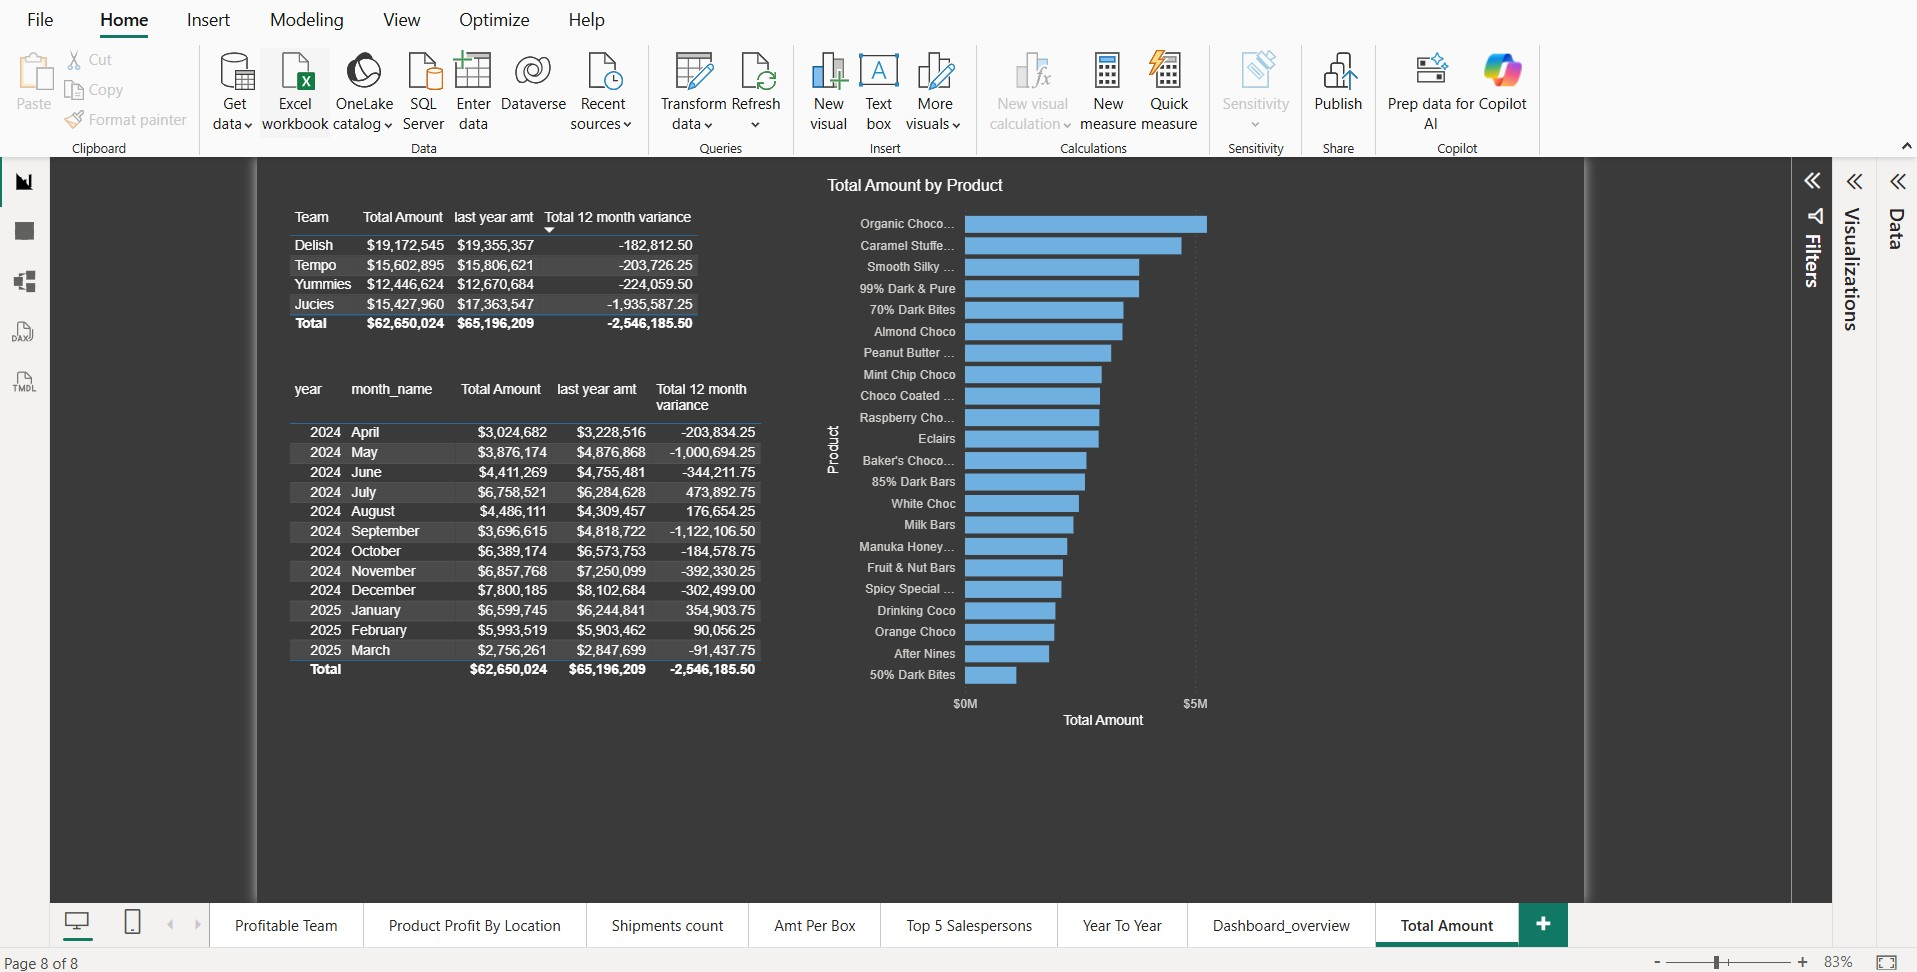

Layout of this report page (visuals, bound fields, positions):
{"tool":"powerbi","page":{"name":"Total Amount","canvas":[1280,720],"ordinal":6},"visuals":[{"type":"tableEx","fields":{"Values":["people.Team","shipments.Total Amount","shipments.last year amt","shipments.Total 12 month variance"]},"box":[25.5,44.5,415.5,165.5],"z":0},{"type":"barChart","fields":{"Category":["products.Product"],"Y":["shipments.Total Amount"]},"box":[545.5,18.2,421.8,538.2],"z":1000},{"type":"tableEx","fields":{"Values":["calendar.year","calendar.month_name","shipments.Total Amount","shipments.last year amt","shipments.Total 12 month variance"]},"box":[25.5,210,472.7,447.3],"z":2000}]}

Visuals, with their boxes on the page's 1280x720 design canvas (x1, y1, x2, y2). These are canvas units, not pixel positions in the 1917x972 screenshot, which may show the page scaled, cropped or inside an application window:
tableEx - people.Team x shipments.Total Amount: (x1=26, y1=44, x2=441, y2=210)
barChart - products.Product x shipments.Total Amount: (x1=546, y1=18, x2=967, y2=556)
tableEx - calendar.year x calendar.month_name: (x1=26, y1=210, x2=498, y2=657)
